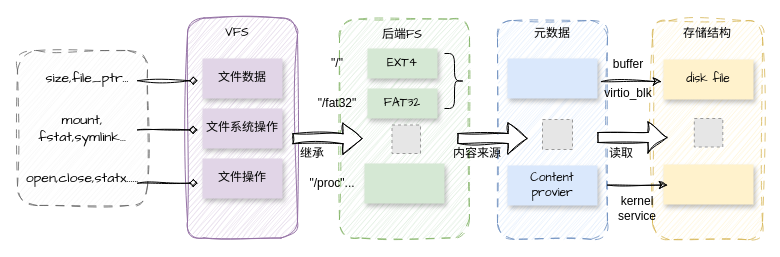
The diagram is 780 pixels wide and 257 high, and some of its shapes have lost their labels. Grey dashed boxes stand in for pictures. Here are the shapes that lost their labels. From the top down, the centre of each, then its label:
(x=553, y=79): inode
(x=405, y=184): SysFS
(x=709, y=185): dynamic sys info
